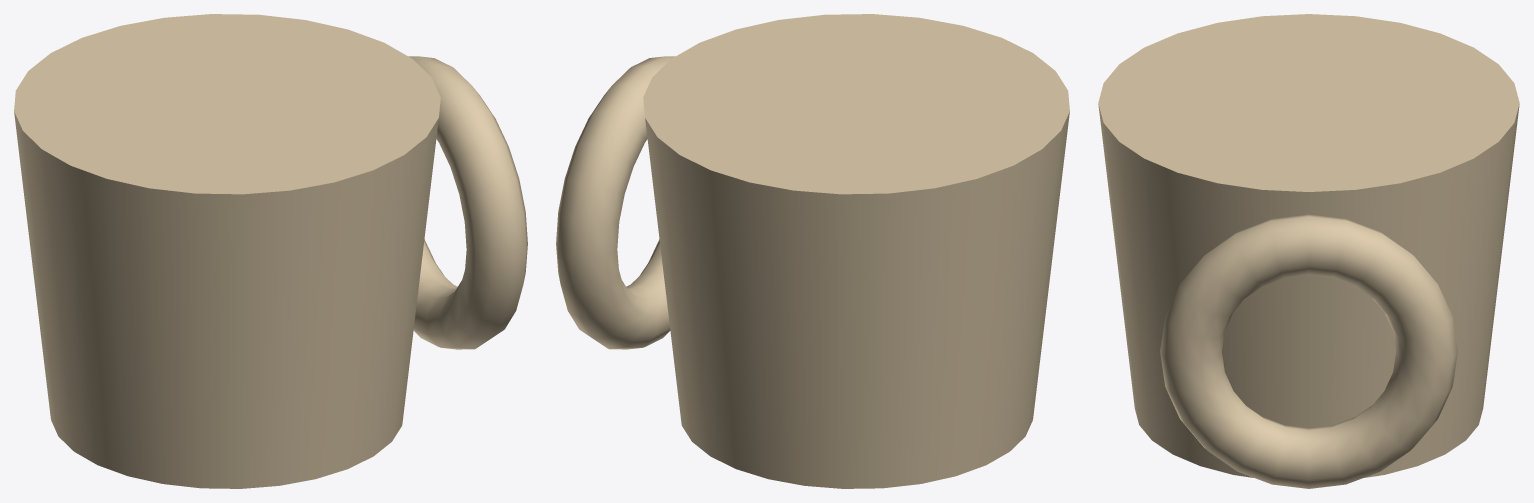
The model's file is upload-mug-test.glb.
3 views of the same model, side by side, from view 1: azimuth 30°, elevation 25°; view 2: azimuth 150°, elevation 25°; view 3: azimuth 270°, elevation 25° (orthographic).
Size of the model in its own units: 0.1705 by 0.12 by 0.15.
